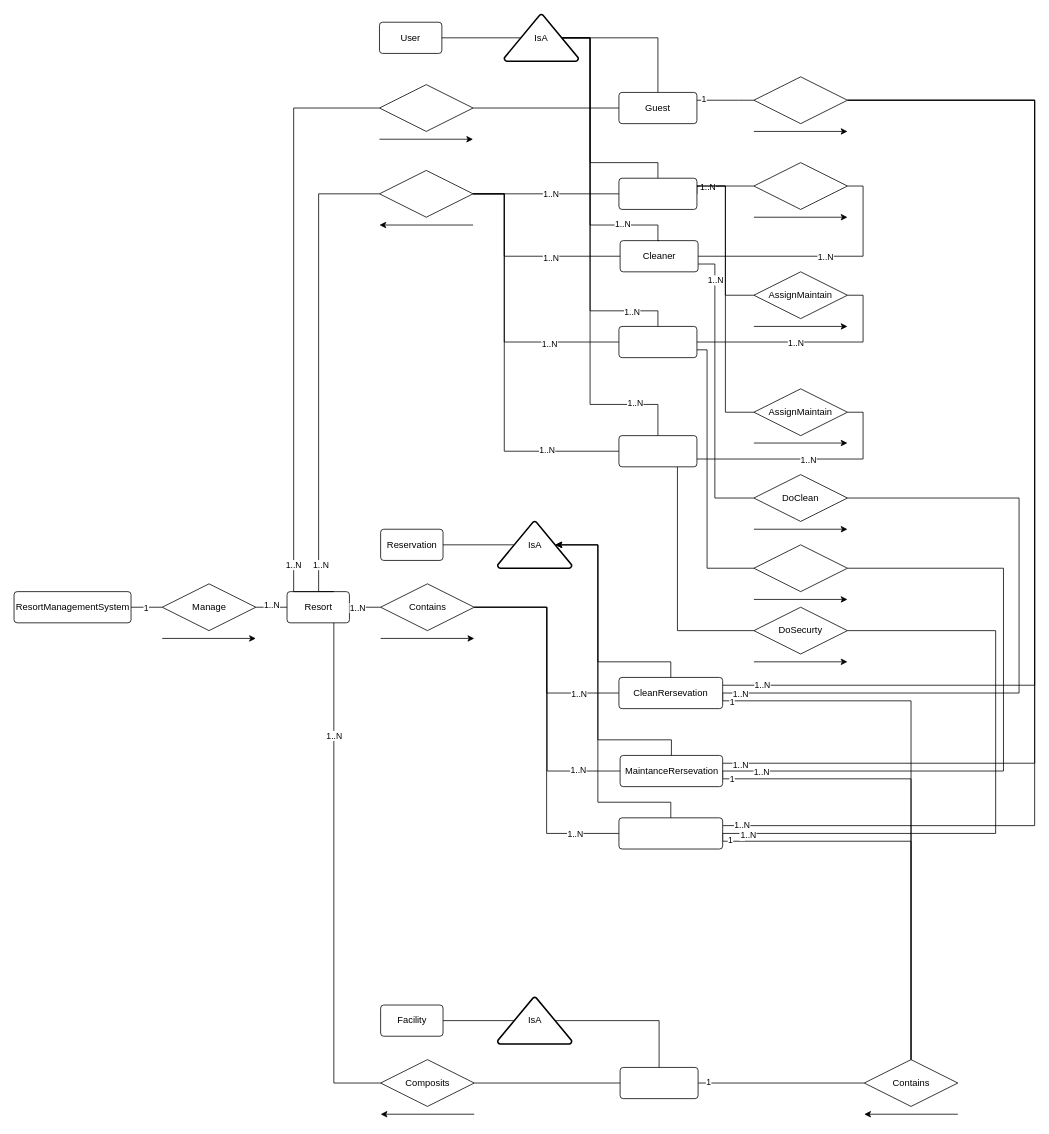
Image size: 1049x1134. Some labels were removed from this diagram. Here are the shapes that lost their labels. From the top down, the box of each, then its label:
(379, 84, 473, 131): Service
(753, 76, 847, 124): Create
(379, 170, 473, 217): WorkIn
(618, 177, 697, 209): Manager
(753, 162, 847, 209): AssignClean
(618, 326, 697, 358): Maintencer
(618, 435, 697, 467): Security
(753, 544, 847, 592): DoMaintance
(618, 817, 723, 849): SecurityRersevation
(619, 1067, 698, 1099): Room
